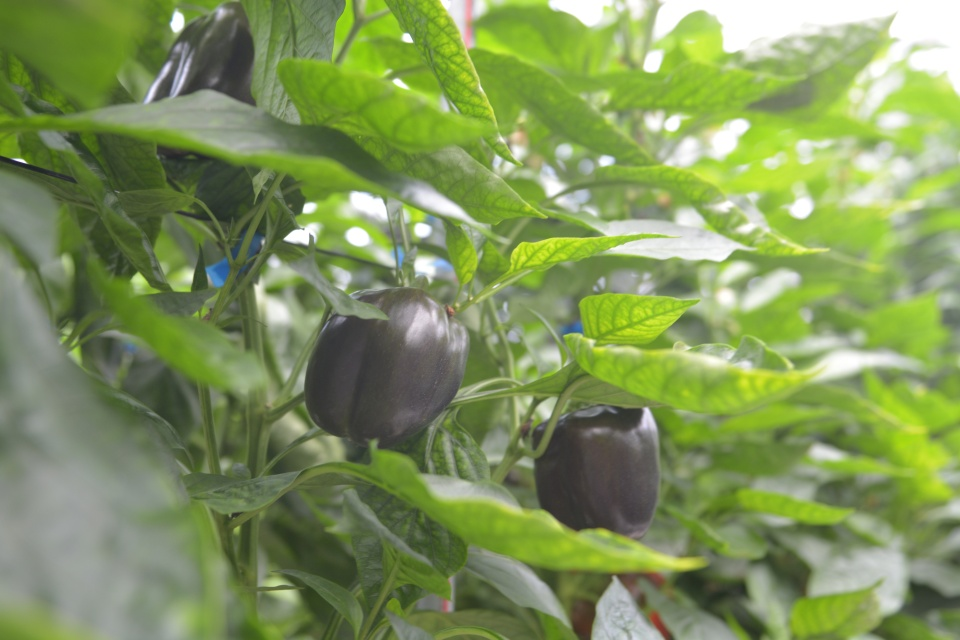fruit: (300, 284, 468, 446), (530, 401, 663, 544), (140, 2, 256, 162), (568, 572, 678, 640)
